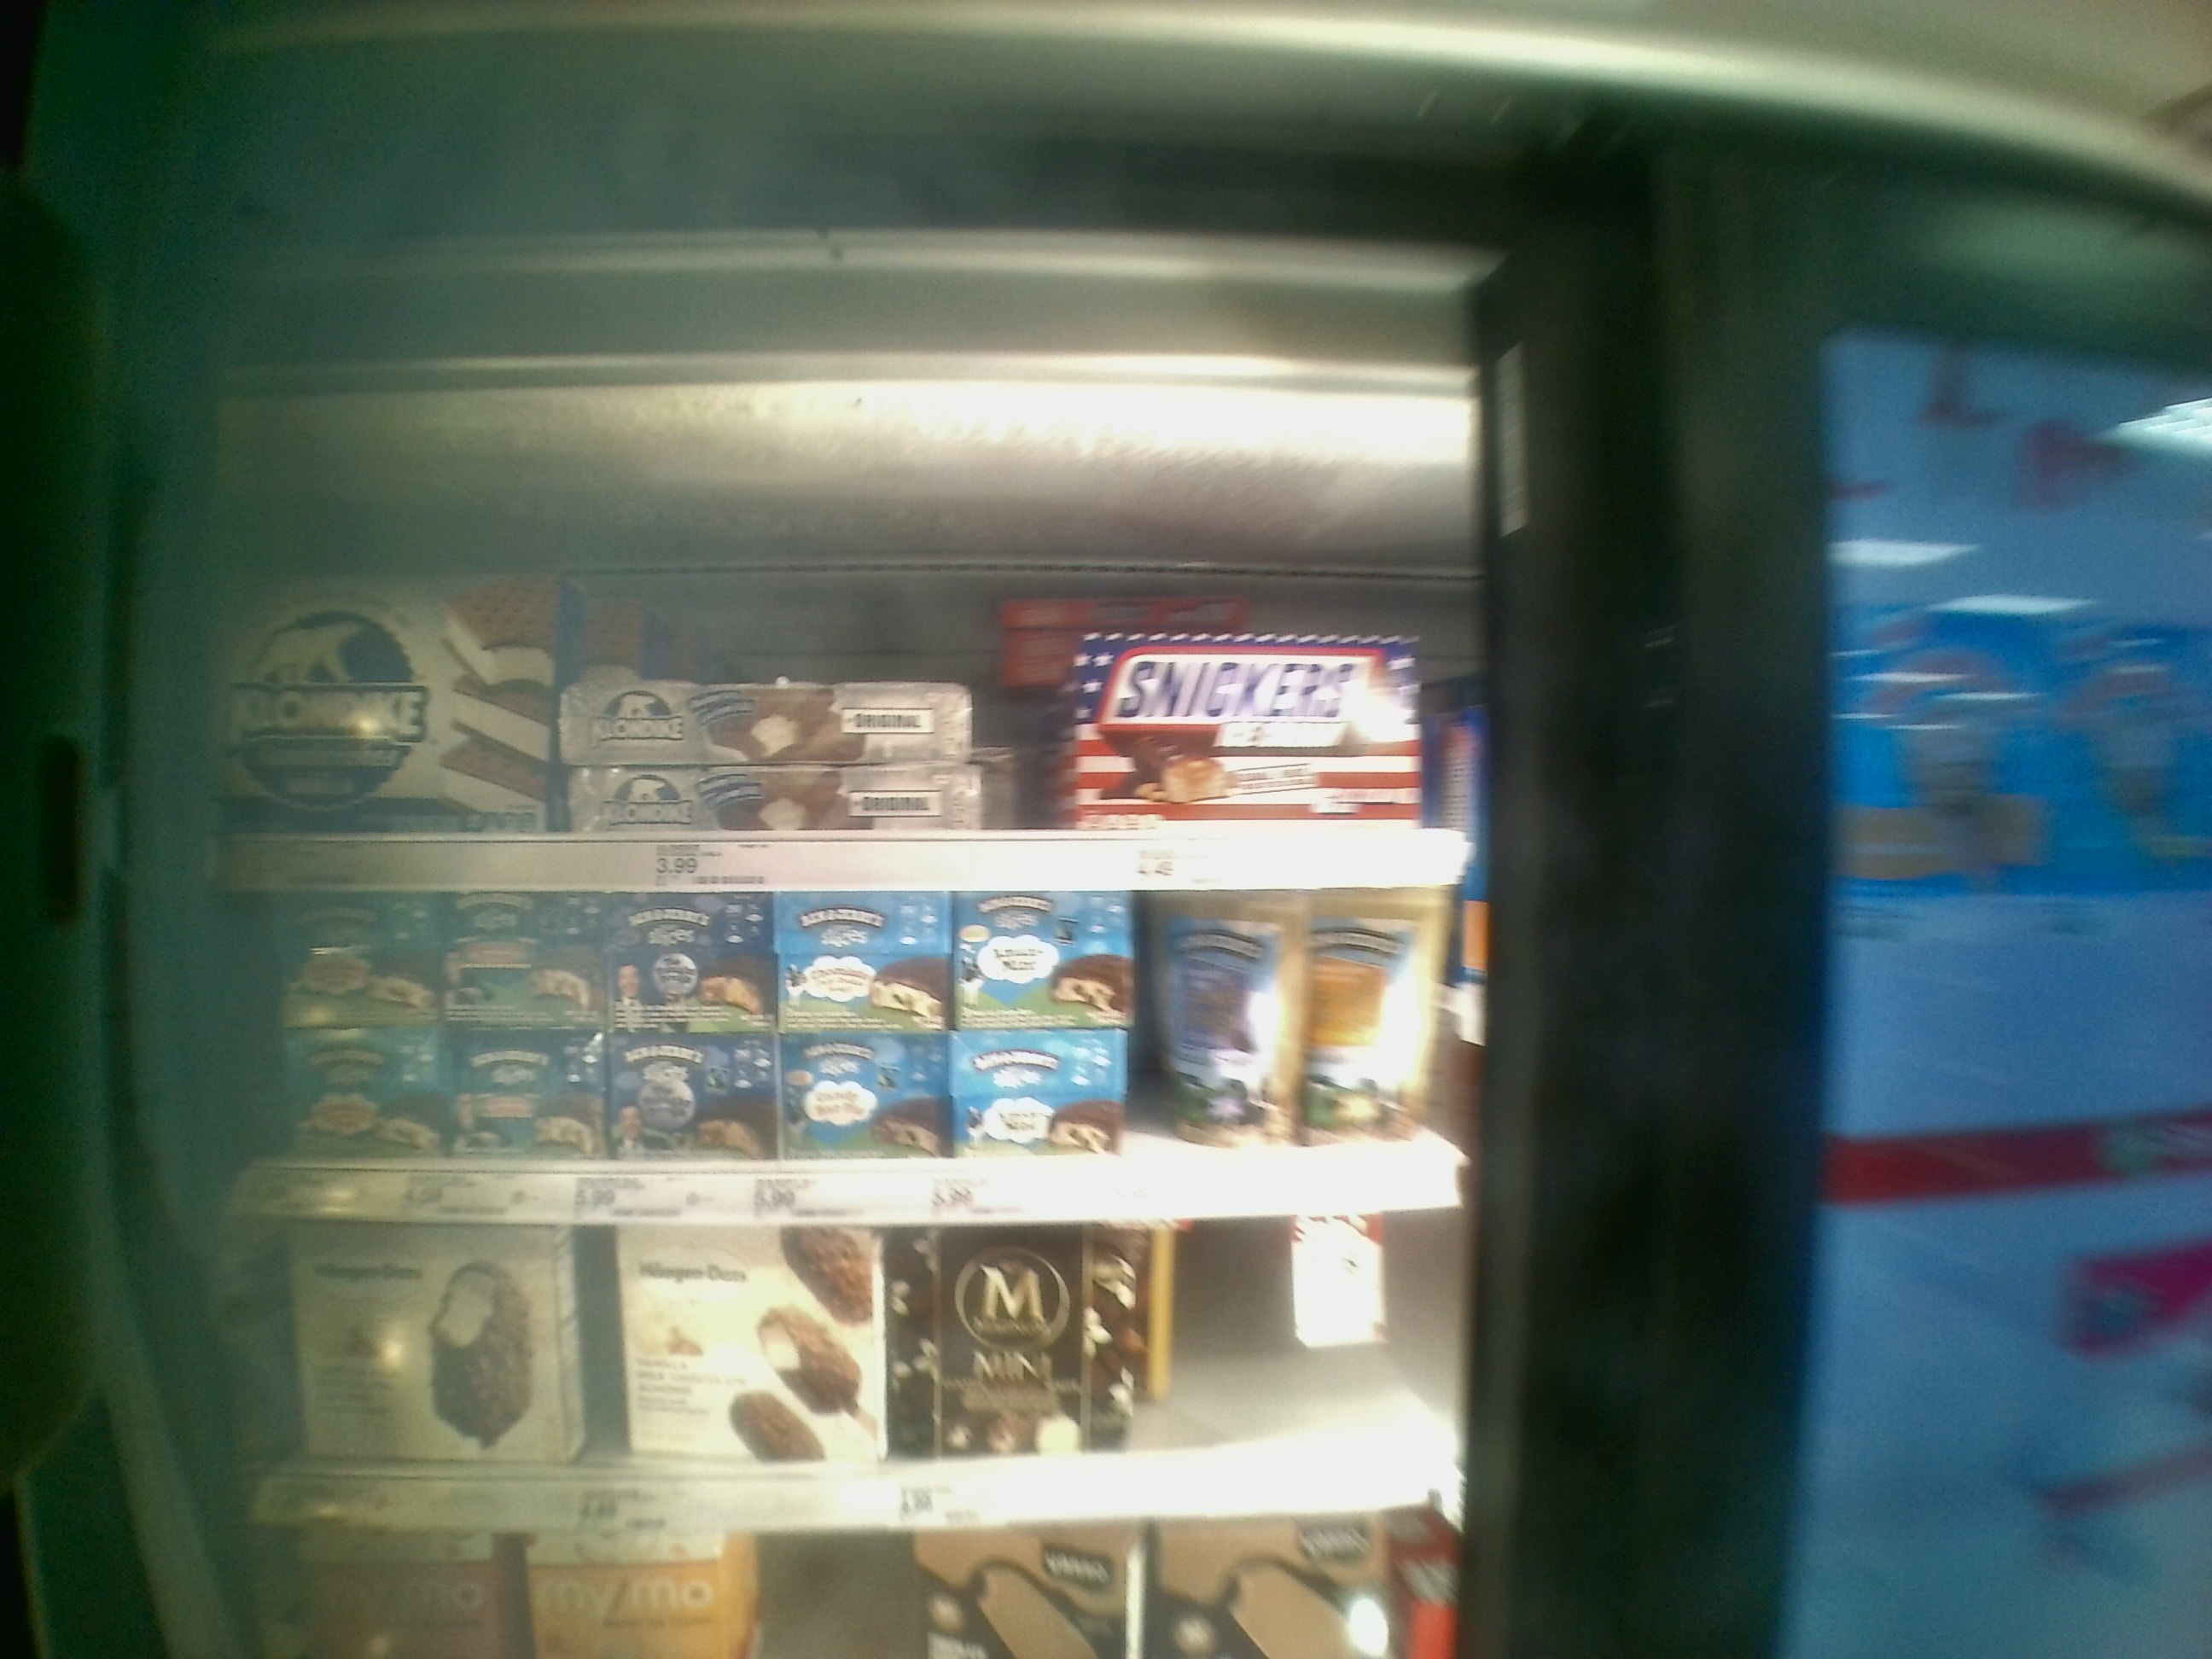shelf: (193, 481, 1484, 889), (190, 897, 1493, 1218), (188, 1218, 1479, 1513)
